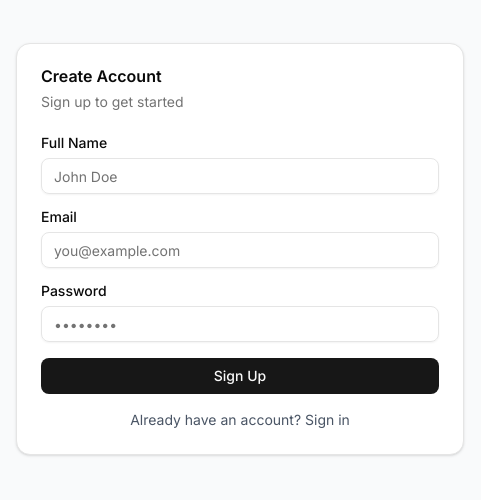
Test case: RegisterPage › shows error when register API returns 400
Type "user@example.com" into the field labelled "Email" at (240, 250), box 41,232 -> 439,268
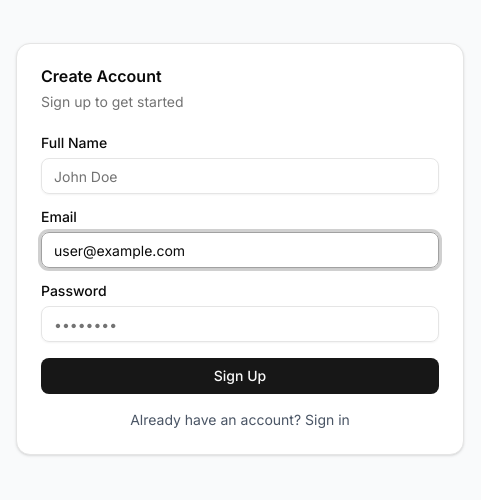
Type "securepassword" into the password field labelled "Password" at (240, 324), box 41,306 -> 439,342
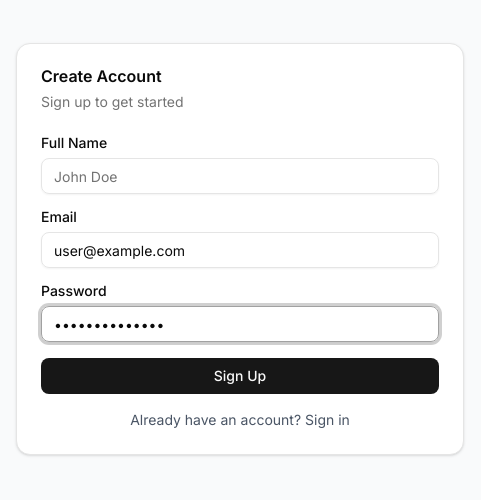
Click the button "Sign Up" at (240, 376), box 41,358 -> 439,394
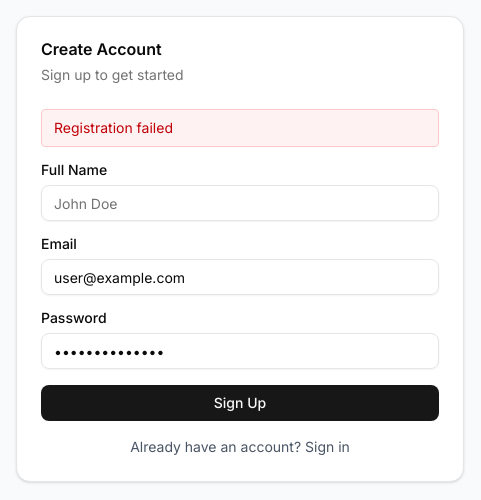
Now the text "Registration failed" is shown, box 41,109 -> 439,147
